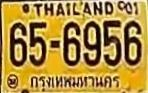5: (103, 20, 121, 66), (30, 22, 47, 66)
6: (123, 21, 141, 66), (10, 23, 27, 67), (63, 22, 80, 66)
9: (84, 21, 101, 66)
BKK: (27, 72, 122, 92)
